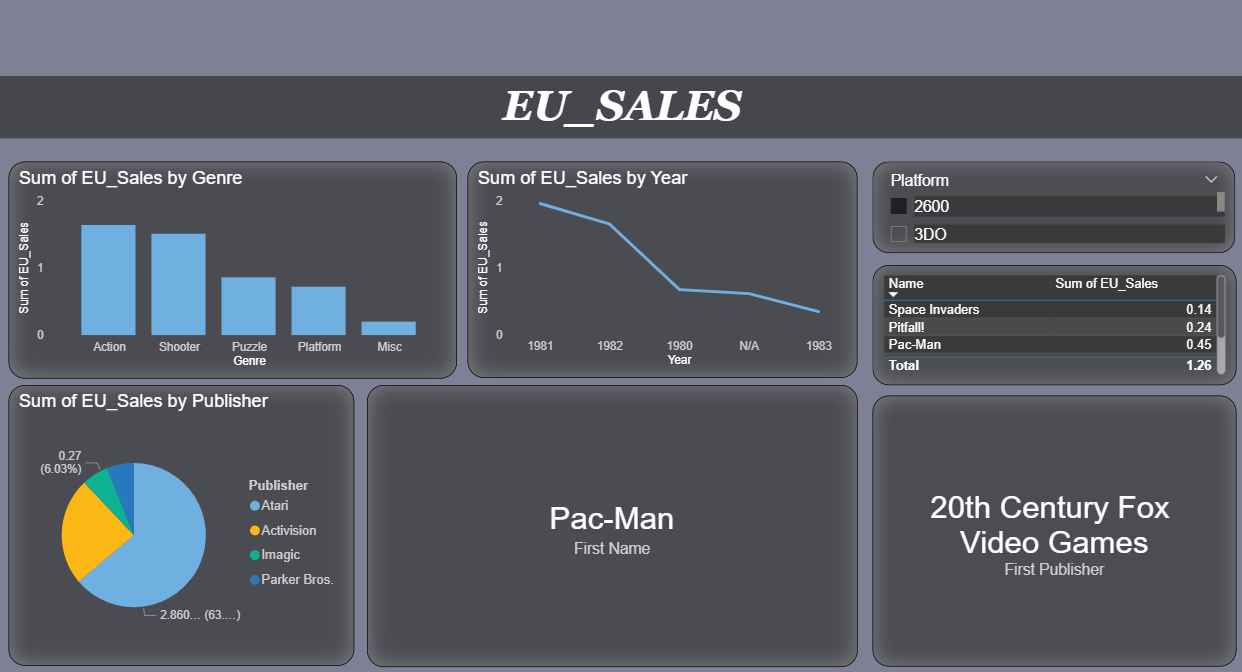

What the dashboard file says about the page in this screenshot:
{"tool":"powerbi","page":{"name":"EU_Sales","canvas":[1280,720],"ordinal":1},"visuals":[{"type":"clusteredColumnChart","fields":{"Y":["Sum(vgsales xlsx - vgsales.EU_Sales)"],"Category":["vgsales xlsx - vgsales.Genre"]},"box":[11.1,167,459.7,222.7],"z":0},{"type":"lineChart","fields":{"Category":["vgsales xlsx - vgsales.Year"],"Y":["Sum(vgsales xlsx - vgsales.EU_Sales)"]},"box":[481.4,167.2,400.1,221.9],"z":1000},{"type":"pieChart","fields":{"Category":["vgsales xlsx - vgsales.Publisher"],"Y":["Sum(vgsales xlsx - vgsales.EU_Sales)"]},"box":[11.1,397.7,354.7,287.9],"z":2000},{"type":"tableEx","fields":{"Values":["vgsales xlsx - vgsales.Name","Sum(vgsales xlsx - vgsales.EU_Sales)"]},"box":[897.2,273.5,373.6,123.5],"z":3000},{"type":"card","fields":{"Values":["Min(vgsales xlsx - vgsales.Name)"]},"box":[378.2,397,503.3,289.2],"z":4000},{"type":"card","fields":{"Values":["Min(vgsales xlsx - vgsales.Publisher)"]},"box":[897.2,407.9,373.6,278.2],"z":5000},{"type":"slicer","fields":{"Values":["vgsales xlsx - vgsales.Platform"]},"box":[897.2,167.2,372,93.8],"z":6000},{"type":"textbox","box":[0,80,1280,64],"z":7000}]}

Visuals, with their boxes on the page's 1280x720 design canvas (x1, y1, x2, y2). These are canvas units, not pixel positions in the 1242x672 screenshot, which may show the page scaled, cropped or inside an application window:
clusteredColumnChart - Sum(vgsales xlsx - vgsales.EU_Sales) x vgsales xlsx - vgsales.Genre: detection(11, 167, 471, 390)
lineChart - vgsales xlsx - vgsales.Year x Sum(vgsales xlsx - vgsales.EU_Sales): detection(481, 167, 882, 389)
pieChart - vgsales xlsx - vgsales.Publisher x Sum(vgsales xlsx - vgsales.EU_Sales): detection(11, 398, 366, 686)
tableEx - vgsales xlsx - vgsales.Name x Sum(vgsales xlsx - vgsales.EU_Sales): detection(897, 274, 1271, 397)
card - Min(vgsales xlsx - vgsales.Name): detection(378, 397, 882, 686)
card - Min(vgsales xlsx - vgsales.Publisher): detection(897, 408, 1271, 686)
slicer - vgsales xlsx - vgsales.Platform: detection(897, 167, 1269, 261)
textbox: detection(0, 80, 1280, 144)
